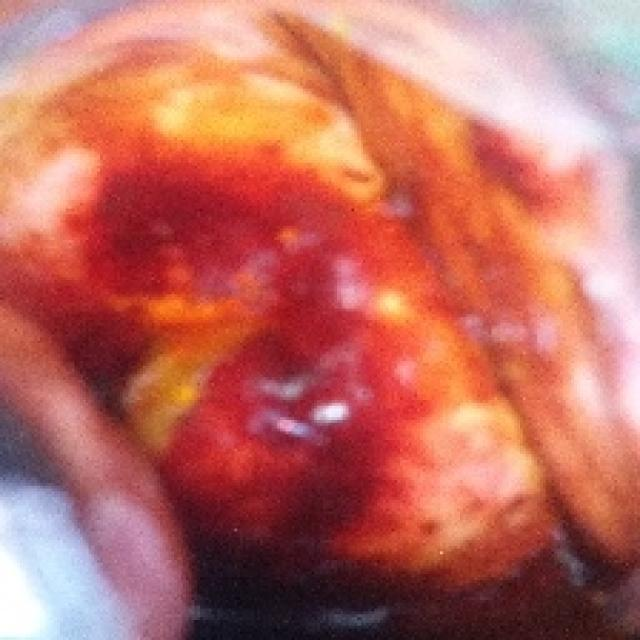type-3: (7, 26, 613, 576)
